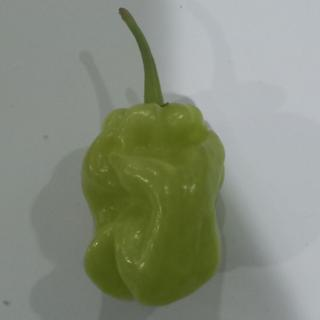Grade-A: (76, 95, 231, 310)
